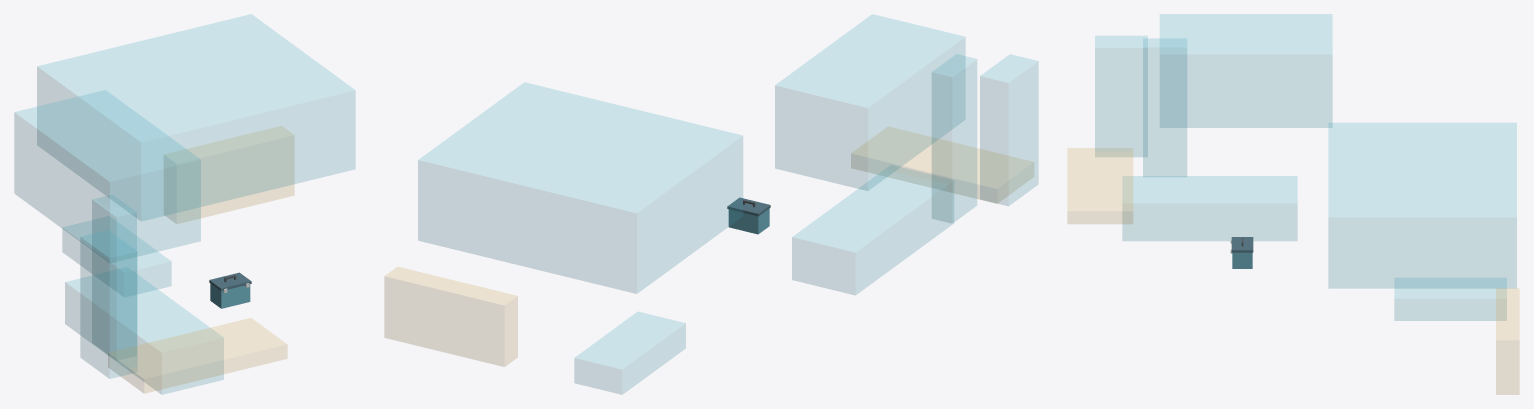
Rendered from twin-factory-asset-scene.gltf.
The picture shows the model from 3 angles, left to right: view 1: azimuth 30°, elevation 25°; view 2: azimuth 150°, elevation 25°; view 3: azimuth 270°, elevation 25°; orthographic projection. The views are drawn at different scales.
Visible parts, largest first — view 1: EQ-0008 상부 점검 통로, EQ-0007 환기 덕트, EQ-0003 전면 안전 가드, EQ-0006 반입 셔터, EQ-0001 반입 홀 바닥, EQ-0002 화물 차량, EQ-0005 전면 구조 기둥, EQ-0004 안쪽 안전 가드, equipment-case, lid; view 2: EQ-0008 상부 점검 통로, EQ-0007 환기 덕트, EQ-0003 전면 안전 가드, EQ-0002 화물 차량, EQ-0006 반입 셔터, EQ-0001 반입 홀 바닥, EQ-0005 전면 구조 기둥, EQ-0004 안쪽 안전 가드, equipment-case; view 3: EQ-0008 상부 점검 통로, EQ-0007 환기 덕트, EQ-0003 전면 안전 가드, EQ-0006 반입 셔터, EQ-0005 전면 구조 기둥, EQ-0001 반입 홀 바닥, EQ-0004 안쪽 안전 가드, EQ-0002 화물 차량.
Part boxes in pixels (x1,y1,x2,y2): EQ-0008 상부 점검 통로: (37, 14, 355, 220); EQ-0007 환기 덕트: (14, 90, 200, 256); EQ-0003 전면 안전 가드: (65, 275, 223, 394); EQ-0006 반입 셔터: (80, 230, 137, 378); EQ-0001 반입 홀 바닥: (108, 318, 287, 393); EQ-0002 화물 차량: (165, 126, 294, 223); EQ-0005 전면 구조 기둥: (92, 195, 136, 353); EQ-0004 안쪽 안전 가드: (62, 221, 171, 293); equipment-case: (210, 283, 250, 308); lid: (209, 272, 251, 291); EQ-0008 상부 점검 통로: (418, 82, 742, 293); EQ-0007 환기 덕트: (775, 14, 965, 190); EQ-0003 전면 안전 가드: (792, 168, 953, 294); EQ-0002 화물 차량: (384, 267, 517, 366); EQ-0006 반입 셔터: (980, 54, 1038, 205); EQ-0001 반입 홀 바닥: (851, 127, 1033, 203); EQ-0005 전면 구조 기둥: (932, 54, 976, 222); EQ-0004 안쪽 안전 가드: (574, 312, 685, 394); equipment-case: (728, 208, 769, 234); EQ-0008 상부 점검 통로: (1328, 123, 1516, 288); EQ-0007 환기 덕트: (1160, 14, 1332, 127); EQ-0003 전면 안전 가드: (1122, 176, 1297, 240); EQ-0006 반입 셔터: (1095, 36, 1147, 156); EQ-0005 전면 구조 기둥: (1143, 38, 1186, 176); EQ-0001 반입 홀 바닥: (1067, 148, 1132, 223); EQ-0004 안쪽 안전 가드: (1394, 278, 1506, 320); EQ-0002 화물 차량: (1496, 288, 1519, 394).
Bounding box in the file's own units: 14.65 × 8.46 × 15.58.
